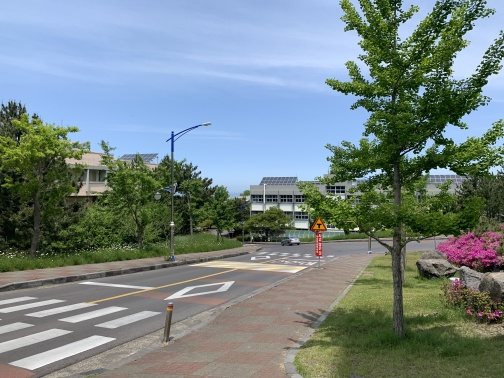College Of Education: (56, 141, 173, 203)
